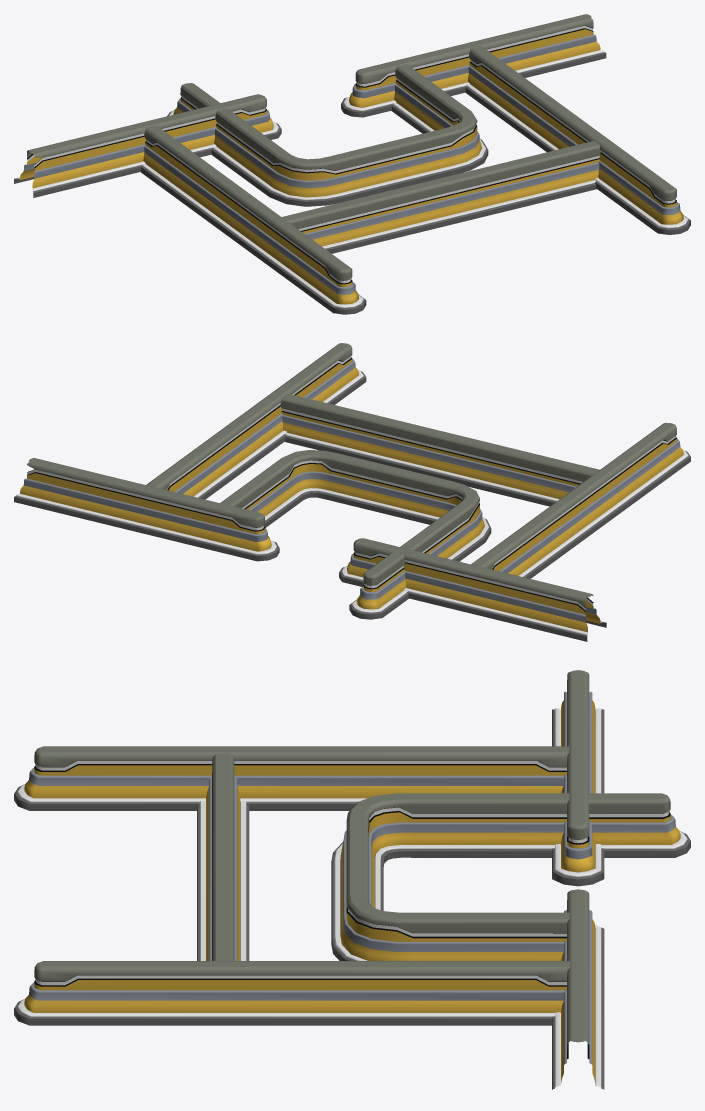
File: Small walls.fbx
3 renders of one model, top to bottom at view 1: azimuth 30°, elevation 25°; view 2: azimuth 150°, elevation 25°; view 3: azimuth 270°, elevation 25°, orthographic. The views are drawn at different scales.
Visible parts, largest first — view 1: Small_wall_L65, Small_wall_L47, Small_wallv1_43, Small_wallv1_40, Small_wallv1_41, Small_wallv1_42; view 2: Small_wall_L65, Small_wall_L47, Small_wallv1_41, Small_wallv1_42, Small_wallv1_43, Small_wallv1_40; view 3: Small_wallv1_40, Small_wall_L65, Small_wallv1_43, Small_wall_L47, Small_wallv1_42, Small_wallv1_41.
Part boxes in pixels (box(x1,y1,x2,y2)): Small_wall_L65: box(167, 64, 488, 206); Small_wall_L47: box(281, 141, 600, 253); Small_wallv1_43: box(141, 125, 366, 314); Small_wallv1_40: box(465, 45, 690, 234); Small_wallv1_41: box(341, 14, 606, 117); Small_wallv1_42: box(14, 94, 281, 197); Small_wall_L65: box(220, 450, 491, 619); Small_wall_L47: box(280, 393, 599, 506); Small_wallv1_41: box(14, 458, 279, 561); Small_wallv1_42: box(339, 538, 606, 641); Small_wallv1_43: box(471, 422, 690, 578); Small_wallv1_40: box(146, 343, 366, 499); Small_wallv1_40: box(14, 961, 570, 1025); Small_wall_L65: box(331, 793, 690, 960); Small_wallv1_43: box(14, 746, 569, 810); Small_wall_L47: box(197, 754, 249, 960); Small_wallv1_42: box(552, 670, 604, 886); Small_wallv1_41: box(552, 889, 604, 1089).
Bounding box in the file's own units: 592 × 37.85 × 446.
